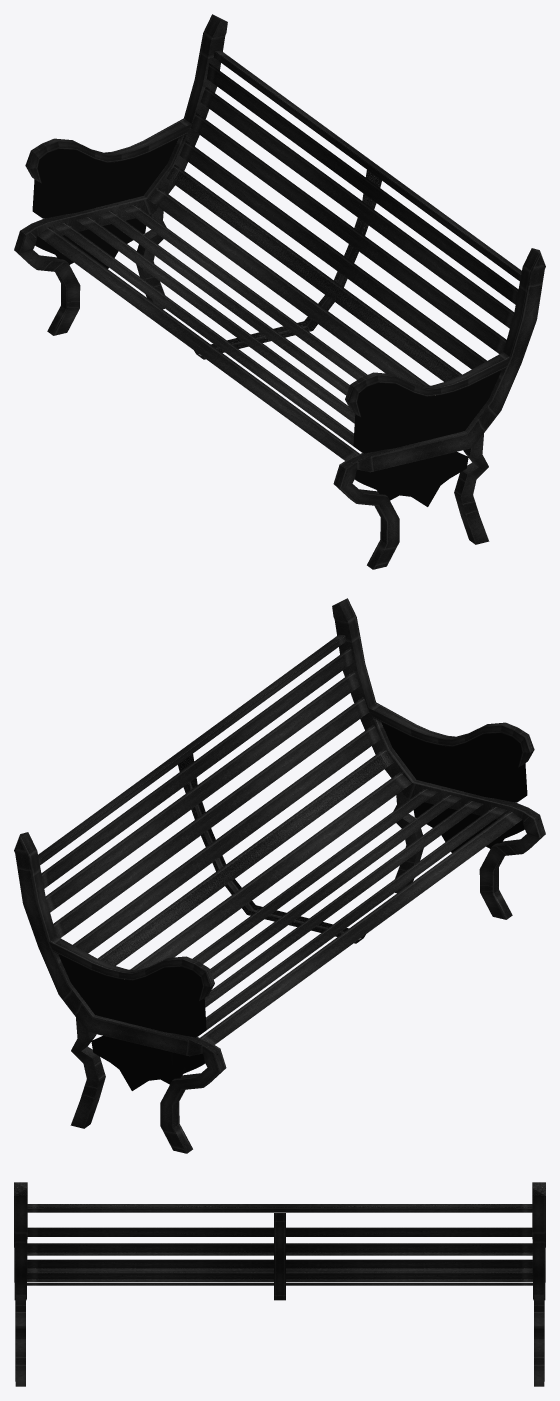
The model's file is bench.fbx.
The picture shows the model from 3 angles, top to bottom: view 1: azimuth 30°, elevation 25°; view 2: azimuth 150°, elevation 25°; view 3: azimuth 270°, elevation 25°; orthographic projection. The views are drawn at different scales.
Visible parts, largest first — view 1: Plane.012; view 2: Plane.012; view 3: Plane.012.
Part boxes in pixels (x1=…): Plane.012: x1=14, y1=14, x2=545, y2=569; Plane.012: x1=14, y1=598, x2=545, y2=1153; Plane.012: x1=14, y1=1182, x2=545, y2=1386.
Bounding box in the file's own units: 130 × 356 × 165.
